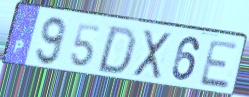5: (68, 22, 103, 69)
6: (170, 35, 201, 85)
9: (34, 15, 67, 68)
D: (94, 24, 138, 76)
E: (197, 38, 241, 91)
X: (131, 28, 173, 81)
